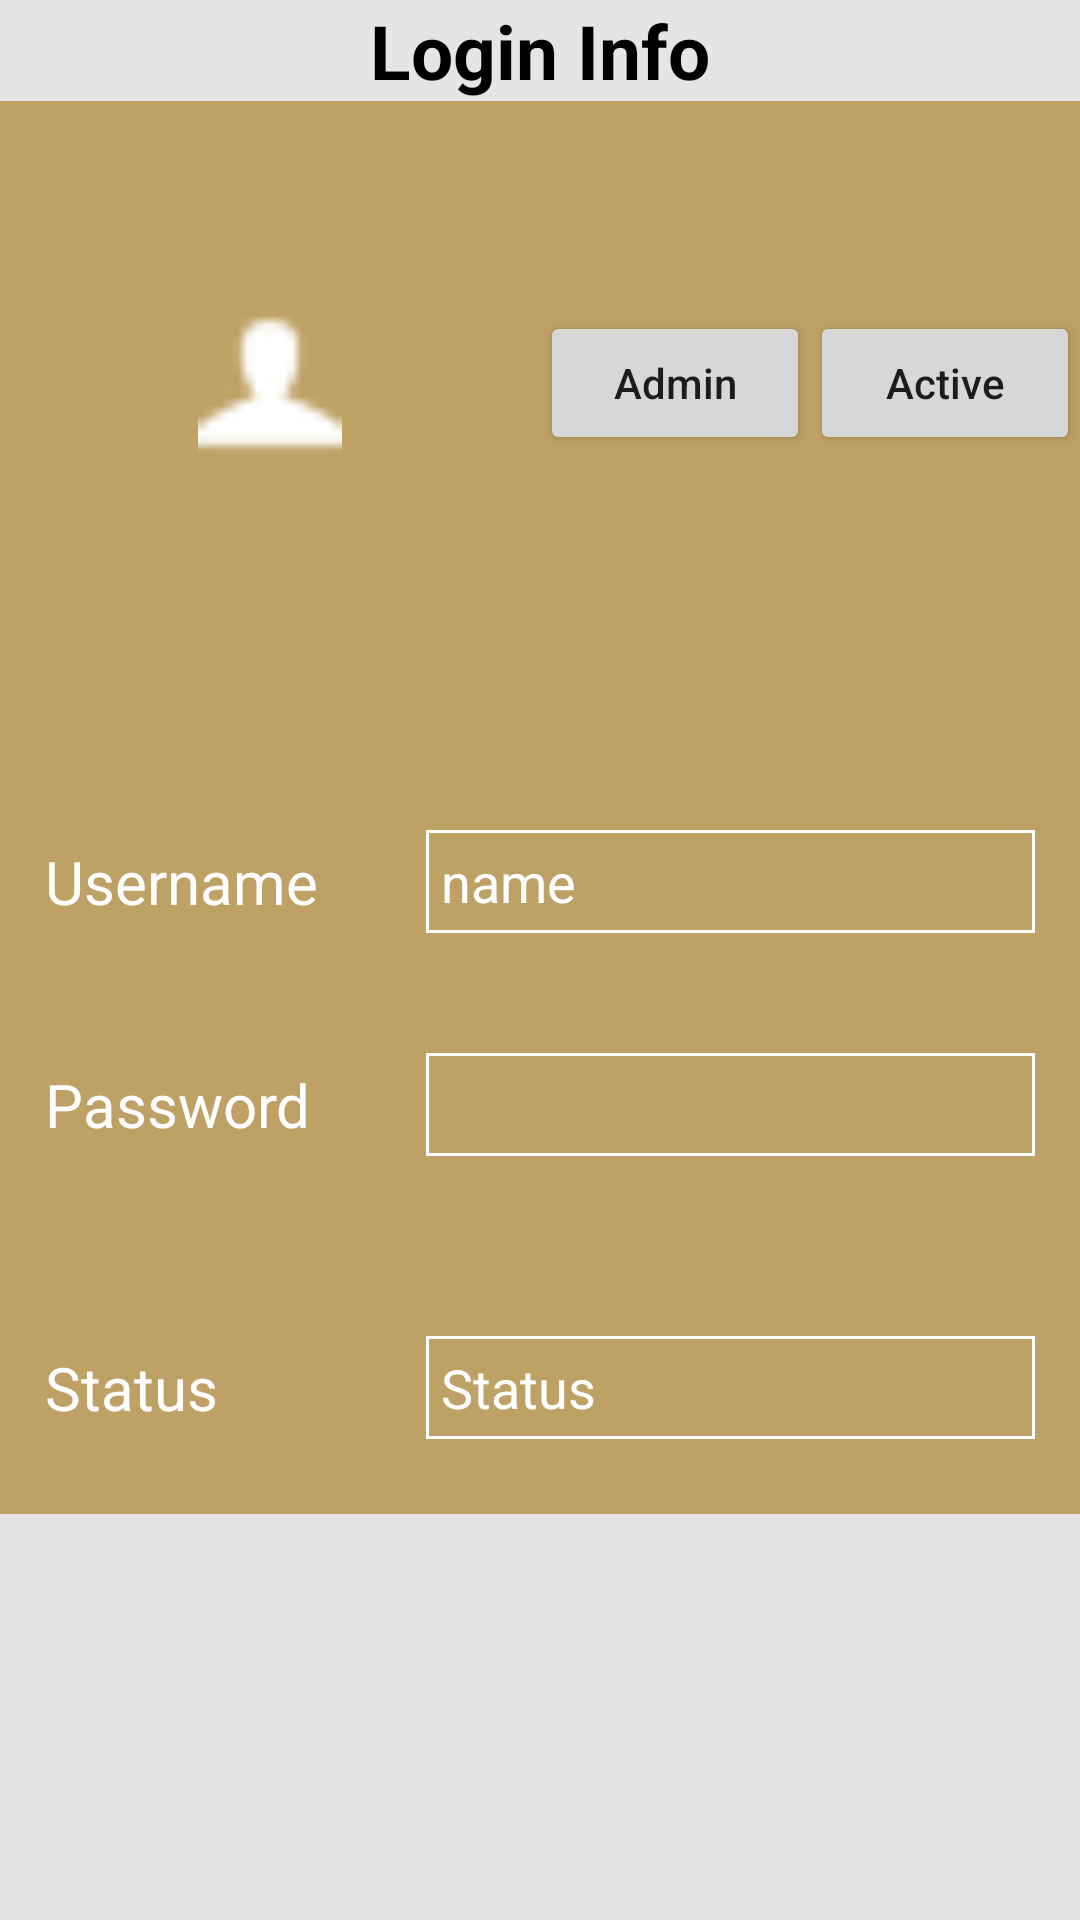

Where to tap for icons on this 1080 × 1920 app screen, as point (x, y):
user: point (270, 383)
